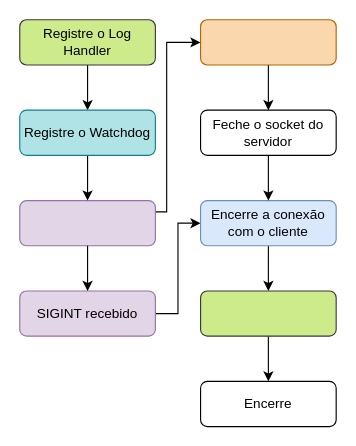
The diagram is 356 pixels wide and 446 high, and some of its shapes have lost their labels. The centre of each missing label's shape, as x and y in pixels:
"Feche o log" goes at pixel 267 313.
"Registre o handler para SIGINT" goes at pixel 87 222.
"Transmita o filme" goes at pixel 267 42.
